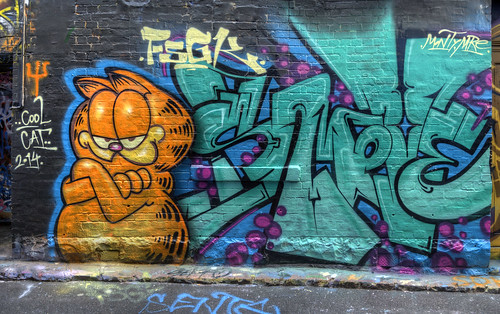graffiti: (27, 14, 500, 278)
